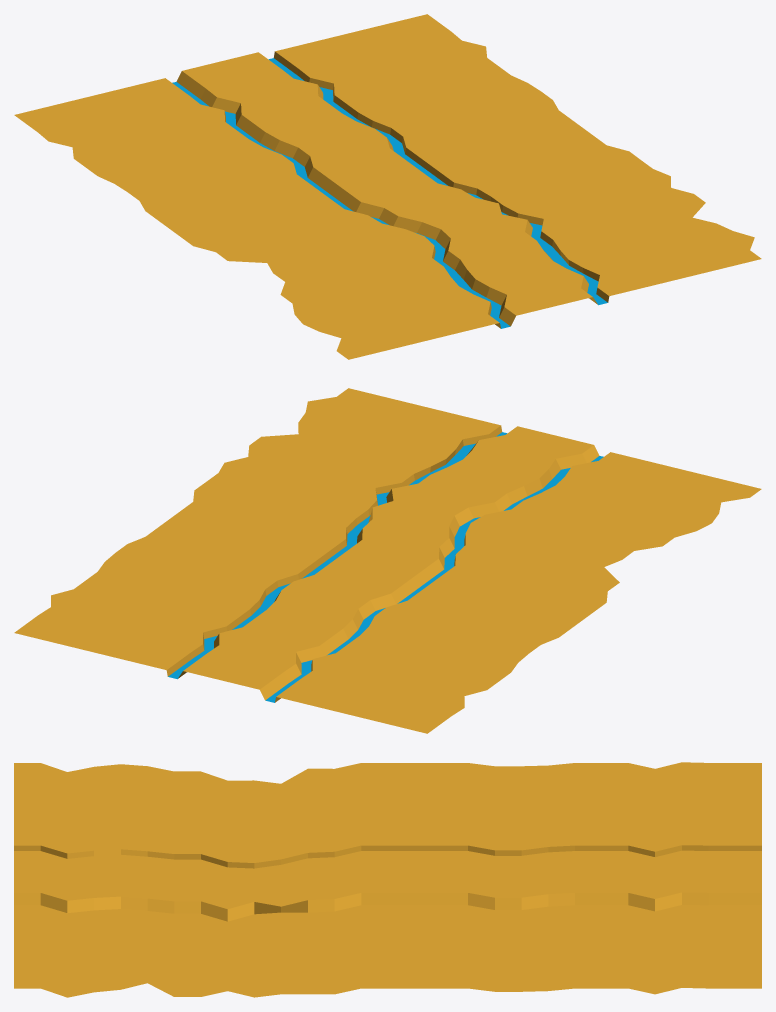
The model's file is RoadWithsTurns.fbx.
3 renders of one model, top to bottom at view 1: azimuth 30°, elevation 25°; view 2: azimuth 150°, elevation 25°; view 3: azimuth 270°, elevation 25°, orthographic. The views are drawn at different scales.
Parts seen in each view (by area): view 1: Plane.001; view 2: Plane.001; view 3: Plane.001.
Boxes of the visible parts, box(x1,y1,x2,y2) form: Plane.001: box(14, 14, 761, 359); Plane.001: box(14, 388, 761, 733); Plane.001: box(14, 762, 761, 997).
Bounding box in the file's own units: 7514 × 159 × 10089.
